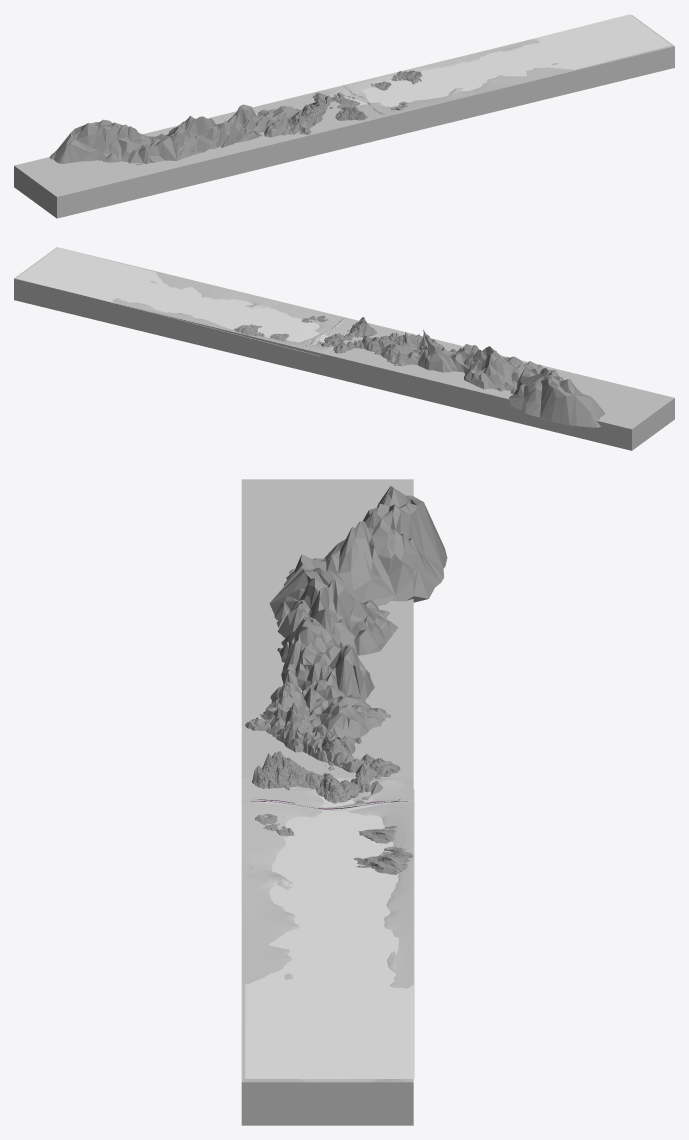
File: beach2_rock_no_palm.FBX
3 renders of one model, top to bottom at view 1: azimuth 30°, elevation 25°; view 2: azimuth 150°, elevation 25°; view 3: azimuth 270°, elevation 25°, orthographic. The views are drawn at different scales.
Visible parts, largest first — view 1: land, Water, Object007, Object004, Object008; view 2: land, Water, Object007, Object004, Object008; view 3: land, Water, Object007, Object004, Object008.
Part boxes in pixels (bbox=[...]): land: bbox=[14, 15, 674, 218]; Water: bbox=[353, 14, 671, 107]; Object007: bbox=[50, 104, 302, 165]; Object004: bbox=[312, 70, 422, 120]; Object008: bbox=[264, 100, 334, 137]; land: bbox=[14, 247, 674, 450]; Water: bbox=[16, 247, 329, 356]; Object007: bbox=[374, 343, 604, 427]; Object004: bbox=[234, 315, 376, 353]; Object008: bbox=[353, 330, 444, 351]; land: bbox=[241, 479, 413, 1125]; Water: bbox=[245, 789, 414, 1078]; Object007: bbox=[269, 486, 447, 744]; Object004: bbox=[252, 751, 413, 874]; Object008: bbox=[245, 677, 355, 774].
Size of what is drawn, in the model's own units: 19910 by 2873 by 1584.
